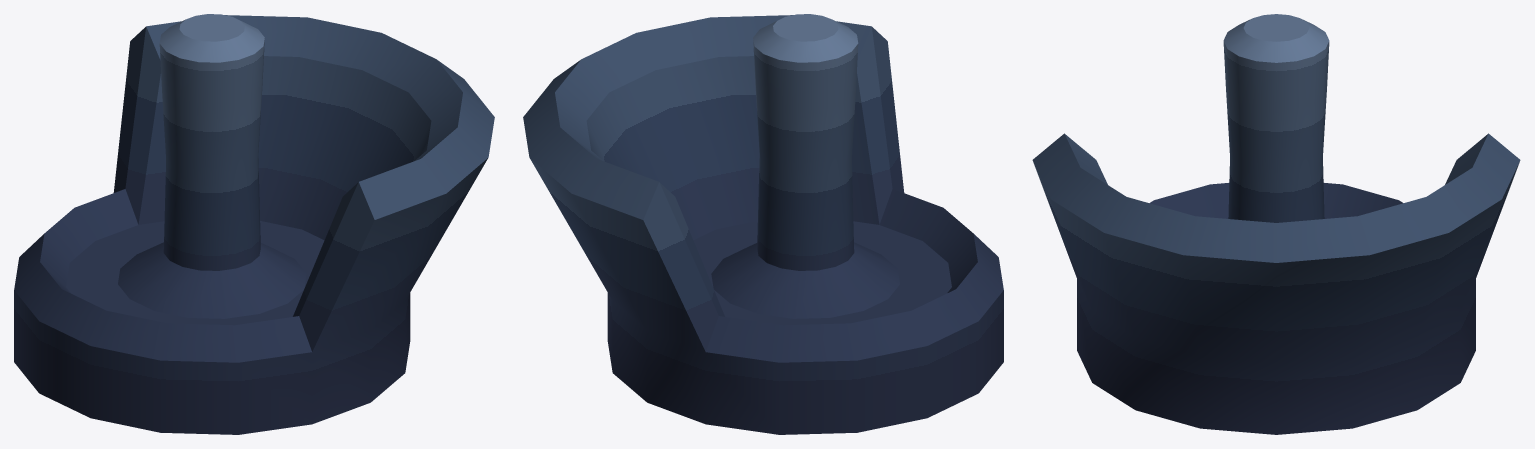
The model's file is cybergaj_handle.fbx.
3 renders of one model, left to right at view 1: azimuth 30°, elevation 25°; view 2: azimuth 150°, elevation 25°; view 3: azimuth 270°, elevation 25°, orthographic.
Visible parts, largest first — view 1: cybergaj_handle; view 2: cybergaj_handle; view 3: cybergaj_handle.
Part boxes in pixels (left/top/right/bottom): cybergaj_handle: left=14, top=14, right=494, bottom=434; cybergaj_handle: left=523, top=14, right=1003, bottom=434; cybergaj_handle: left=1032, top=14, right=1520, bottom=434.
Size of the model in its own units: 65.08 by 47.32 by 64.84.
